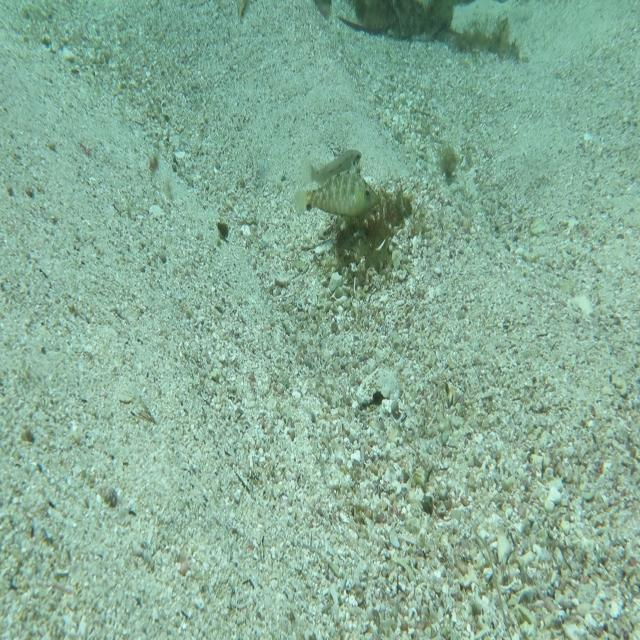BEND_OPP: (292, 160, 382, 223)
female: (296, 147, 364, 187)
nest: (314, 173, 417, 309)
